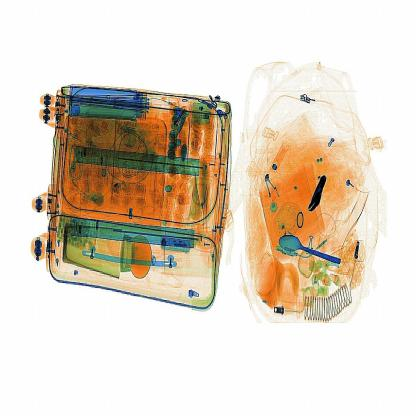knife: (306, 168, 327, 210)
